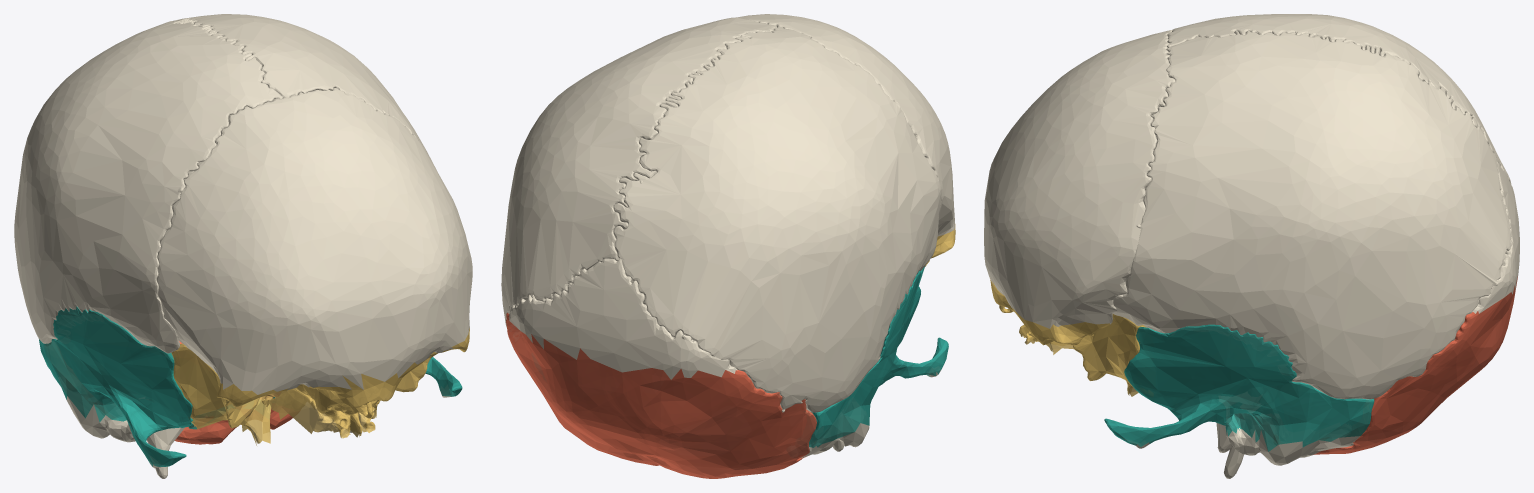
The model's file is bodyparts3d-brain-fossae.glb.
3 renders of one model, left to right at view 1: azimuth 30°, elevation 25°; view 2: azimuth 150°, elevation 25°; view 3: azimuth 270°, elevation 25°, orthographic.
Parts seen in each view (by area): view 1: fossa_vault, fossa_mid, fossa_ant, fossa_post; view 2: fossa_vault, fossa_post, fossa_mid; view 3: fossa_vault, fossa_mid, fossa_post, fossa_ant.
Part boxes in pixels (box(x1,y1,x2,y2)): fossa_vault: box(14, 14, 472, 478); fossa_mid: box(39, 306, 462, 466); fossa_ant: box(171, 328, 469, 445); fossa_post: box(175, 341, 292, 444); fossa_vault: box(501, 14, 954, 458); fossa_post: box(506, 313, 816, 478); fossa_mid: box(809, 266, 948, 447); fossa_vault: box(984, 14, 1519, 478); fossa_mid: box(1104, 324, 1374, 451); fossa_post: box(1314, 276, 1517, 454); fossa_ant: box(990, 279, 1146, 396).
Size of the model in its own units: 0.151 by 0.1608 by 0.1954.
